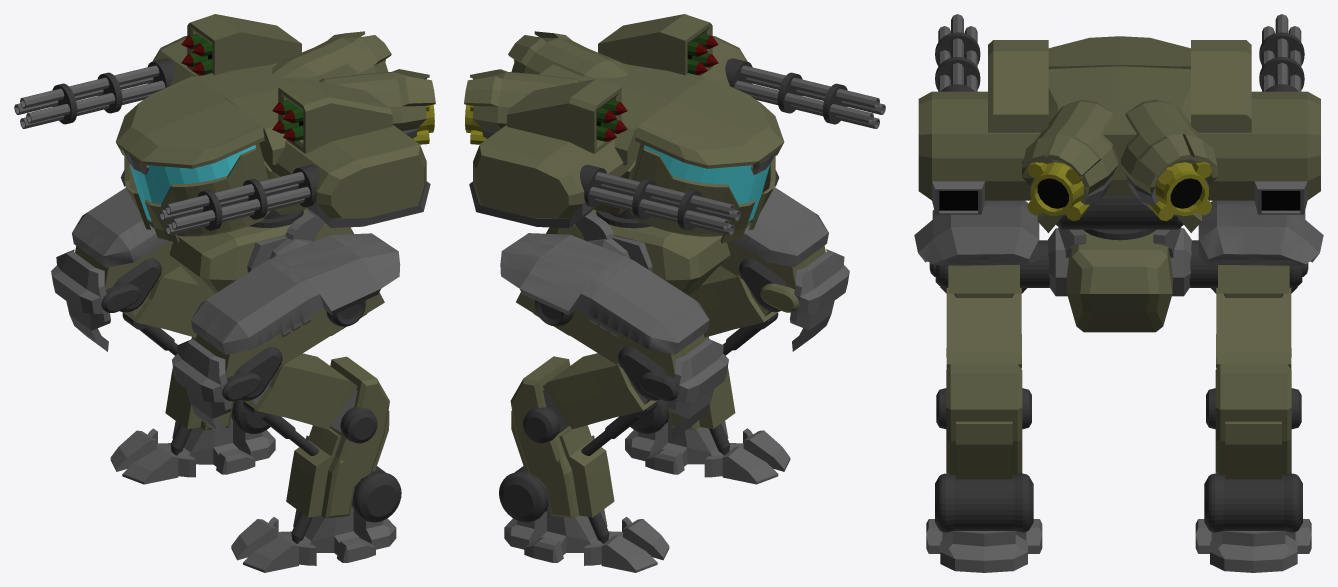
The model's file is BossRobot.fbx.
The picture shows the model from 3 angles, left to right: view 1: azimuth 30°, elevation 25°; view 2: azimuth 150°, elevation 25°; view 3: azimuth 270°, elevation 25°; orthographic projection. The views are drawn at different scales.
Visible parts, largest first — view 1: Cube.001; view 2: Cube.001; view 3: Cube.001.
Boxes of the visible parts, box(x1,y1,x2,y2) form: Cube.001: box(14, 14, 435, 572); Cube.001: box(464, 14, 885, 572); Cube.001: box(914, 14, 1323, 572).
Bounding box in the file's own units: 1251 × 1684 × 1269.
